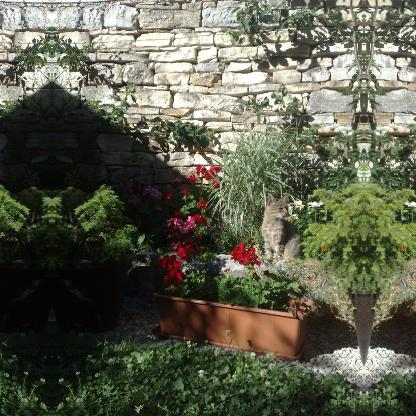Cat: (258, 193, 304, 266)
